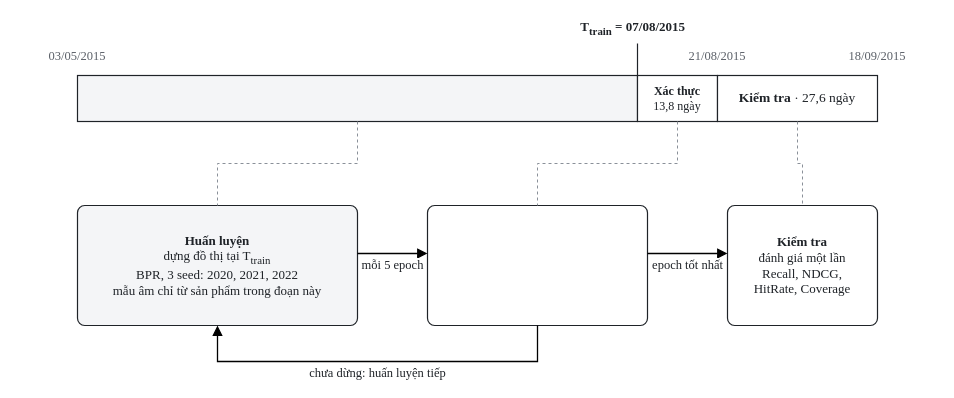
The diagram is 954 pixels wide and 398 high, and some of its shapes have lost their labels. Here are the shapes that lost their labels. From the top down, the centre of each, then its label:
(357,98): Huấn luyện · 96,6 ngày
(537,265): Xác thực đo NDCG@20 dừng sau 20 lần không cải thiện (nhóm Active: 50)
